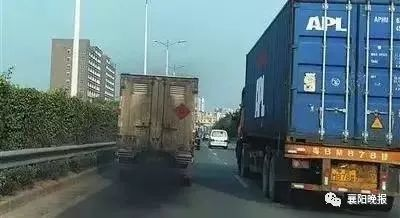smoke: (114, 159, 194, 216)
